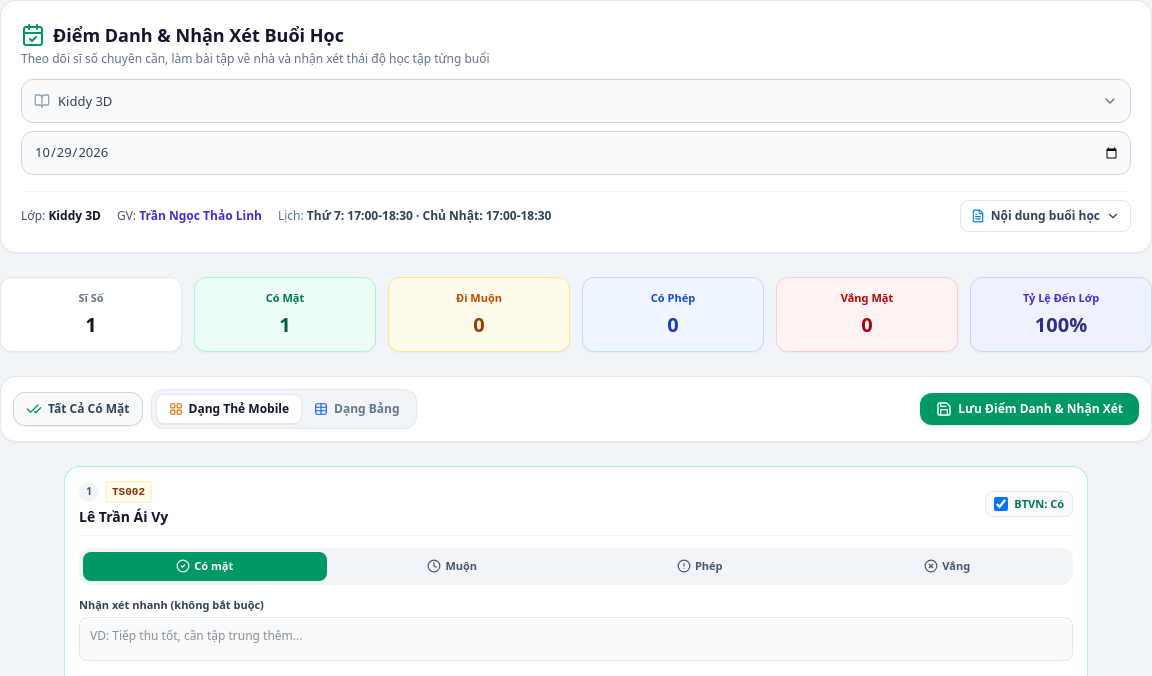
it: attendance feedback editor › keeps class-wide lesson details collapsed until requested
Expected: the field labelled "Chủ đề bài học / Giáo trình hôm nay" is not shown
Expected: the field labelled "Nội dung dặn dò / BTVN chung cả lớp" is not shown
Click the button "Nội dung buổi học" at (1045, 216), box [960,200,1131,232]
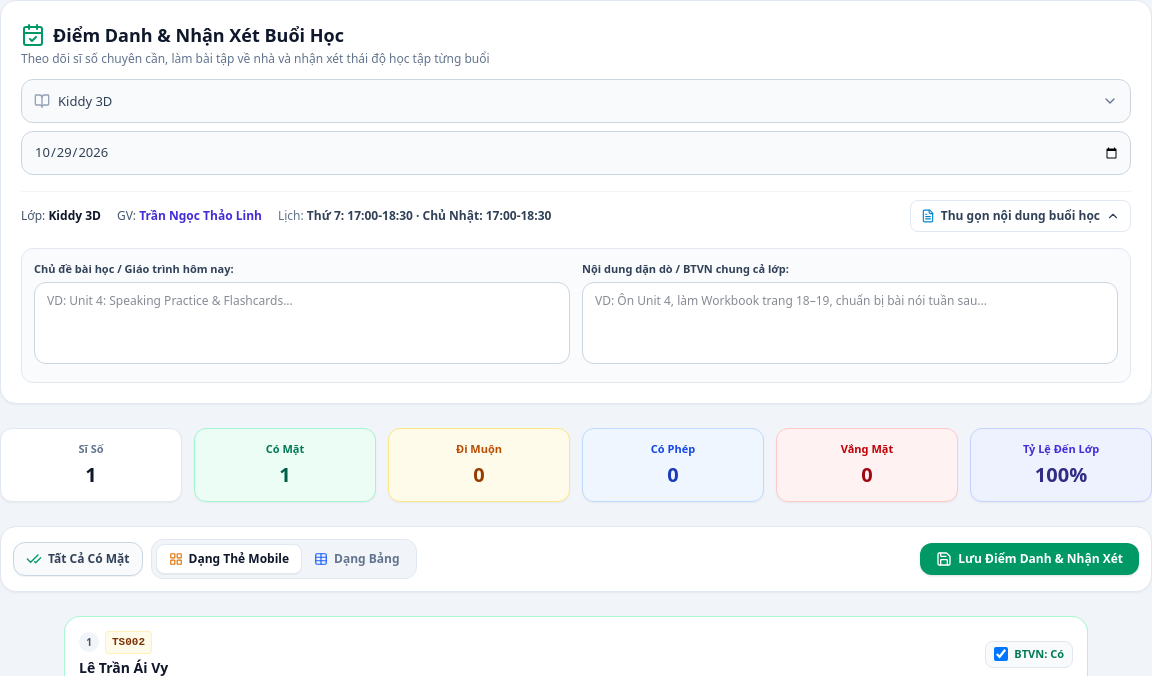
Now the text box labelled "Chủ đề bài học / Giáo trình hôm nay" is shown, box [34,282,570,364]
Now the text box labelled "Nội dung dặn dò / BTVN chung cả lớp" is shown, box [582,282,1118,364]
